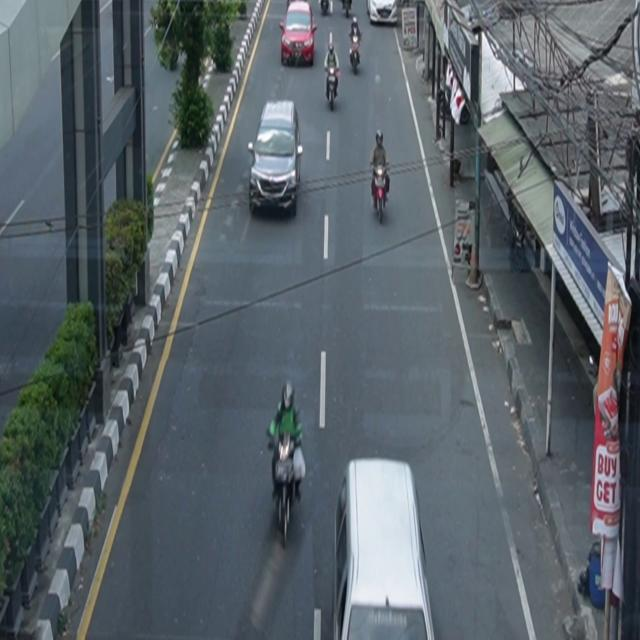bus: (333, 458, 436, 640)
car: (248, 100, 304, 218), (279, 1, 318, 67), (367, 1, 398, 26)
